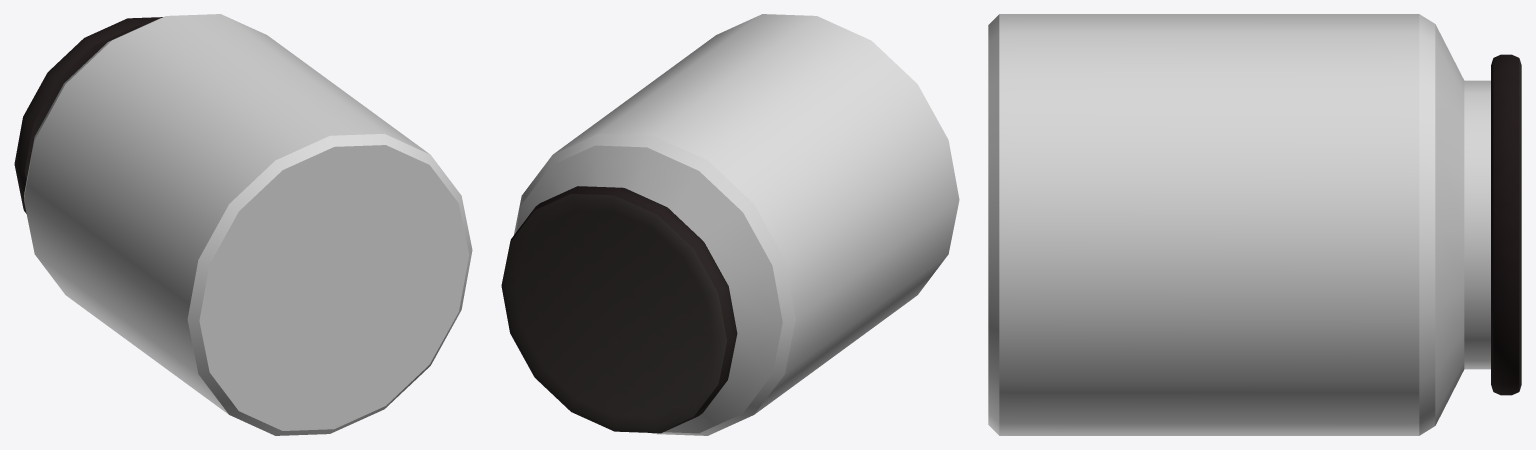
The model's file is Initial_Item_Brain in Jar_Ver2.fbx.
The picture shows the model from 3 angles, left to right: view 1: azimuth 30°, elevation 25°; view 2: azimuth 150°, elevation 25°; view 3: azimuth 270°, elevation 25°; orthographic projection. The views are drawn at different scales.
Parts seen in each view (by area): view 1: Jar, Lid; view 2: Jar, Lid; view 3: Jar, Lid.
Part boxes in pixels (x1=…): Jar: x1=24, y1=14, x2=472, y2=435; Lid: x1=14, y1=17, x2=162, y2=213; Jar: x1=513, y1=14, x2=959, y2=435; Lid: x1=501, y1=186, x2=737, y2=433; Jar: x1=988, y1=14, x2=1490, y2=435; Lid: x1=1491, y1=54, x2=1521, y2=395.
Size of the model in its own units: 512 by 512 by 646.
Materials: 3 (2 with a texture image).
